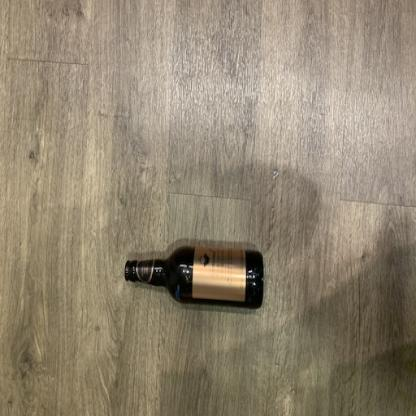trash: (123, 246, 265, 310)
